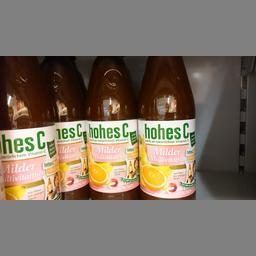juice: (136, 56, 198, 199), (0, 56, 61, 198), (84, 56, 138, 197), (40, 55, 86, 199)
